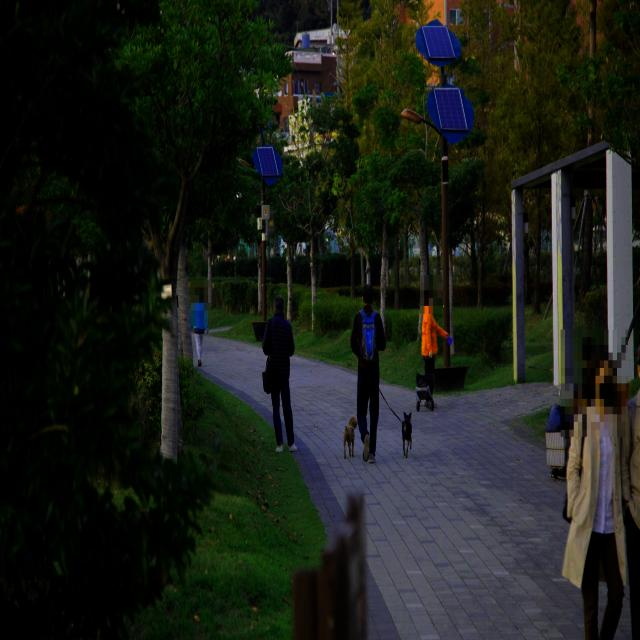Leashed_Dog: (373, 379, 413, 459), (343, 391, 364, 461)
